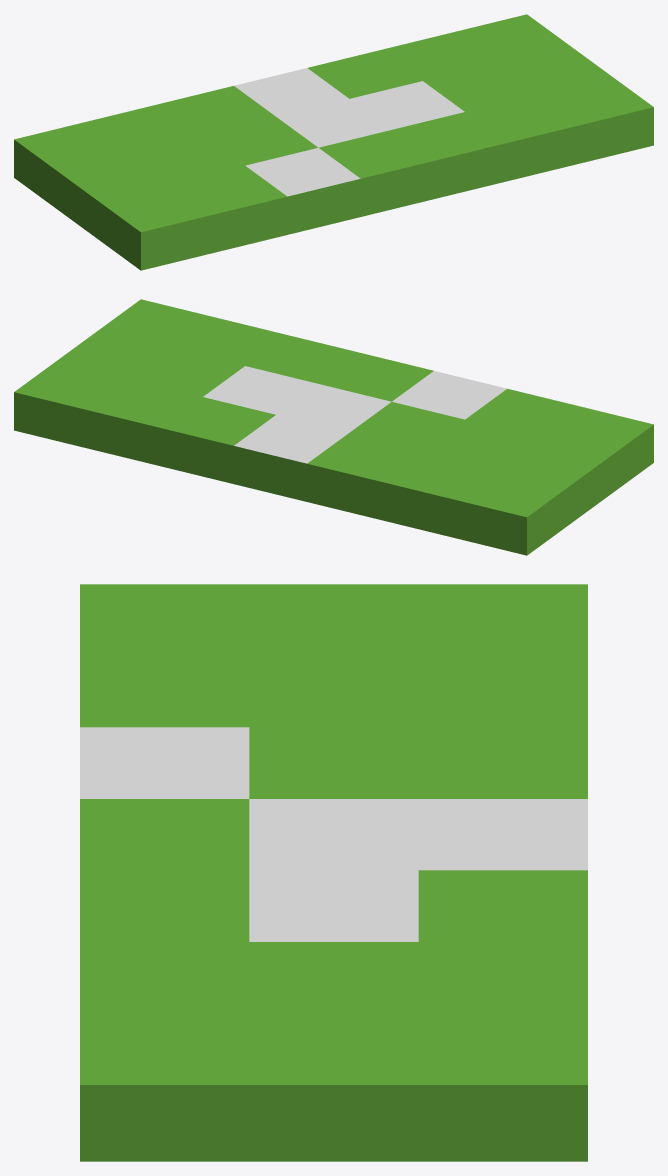
The model's file is Money1.fbx.
3 renders of one model, top to bottom at view 1: azimuth 30°, elevation 25°; view 2: azimuth 150°, elevation 25°; view 3: azimuth 270°, elevation 25°, orthographic. The views are drawn at different scales.
Visible parts, largest first — view 1: Cube.023; view 2: Cube.023; view 3: Cube.023.
Part boxes in pixels (x1,y1,x2,y2): Cube.023: (14,14,653,270); Cube.023: (14,299,653,555); Cube.023: (80,584,587,1161).
Bounding box in the file's own units: 70 × 5 × 30.
